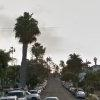Palm tree: (11, 12, 39, 83)
